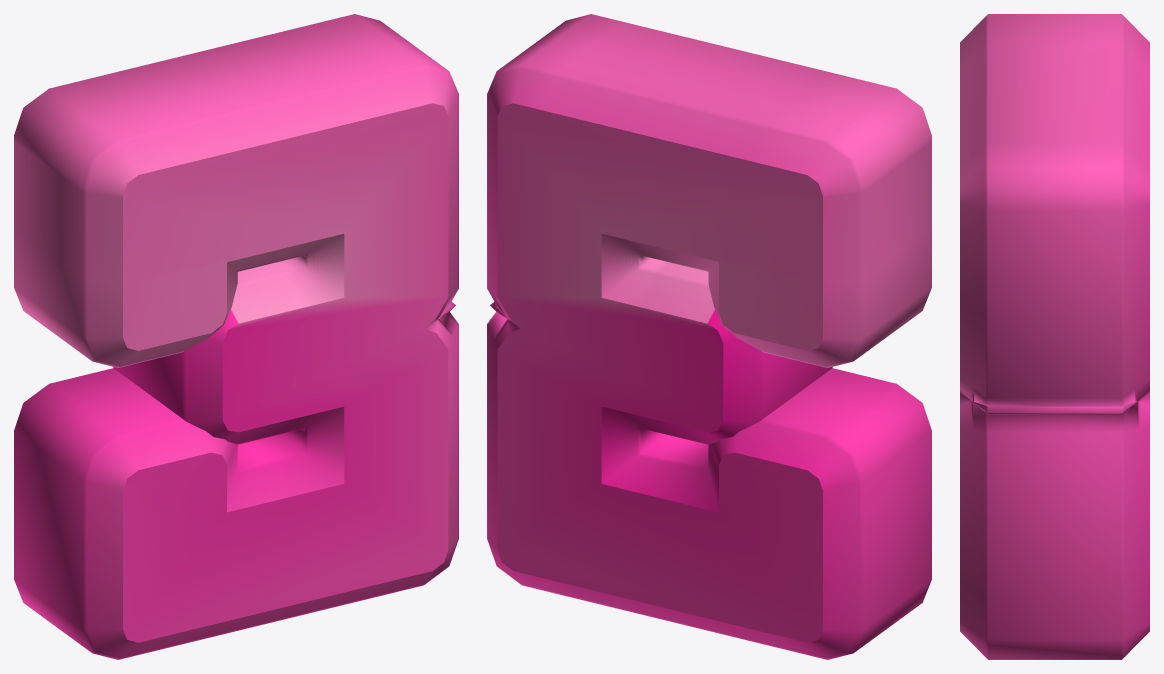
The model's file is fullStomach3.obj.
The picture shows the model from 3 angles, left to right: view 1: azimuth 30°, elevation 25°; view 2: azimuth 150°, elevation 25°; view 3: azimuth 270°, elevation 25°; orthographic projection. The views are drawn at different scales.
Visible parts, largest first — view 1: テキスト; view 2: テキスト; view 3: テキスト.
Part boxes in pixels (x1,y1,x2,y2): テキスト: [14, 14, 458, 659]; テキスト: [487, 14, 931, 659]; テキスト: [960, 14, 1149, 659].
Bounding box in the file's own units: 1.63 × 2.16 × 0.74.
Materials: 1 (1 with a texture image).
